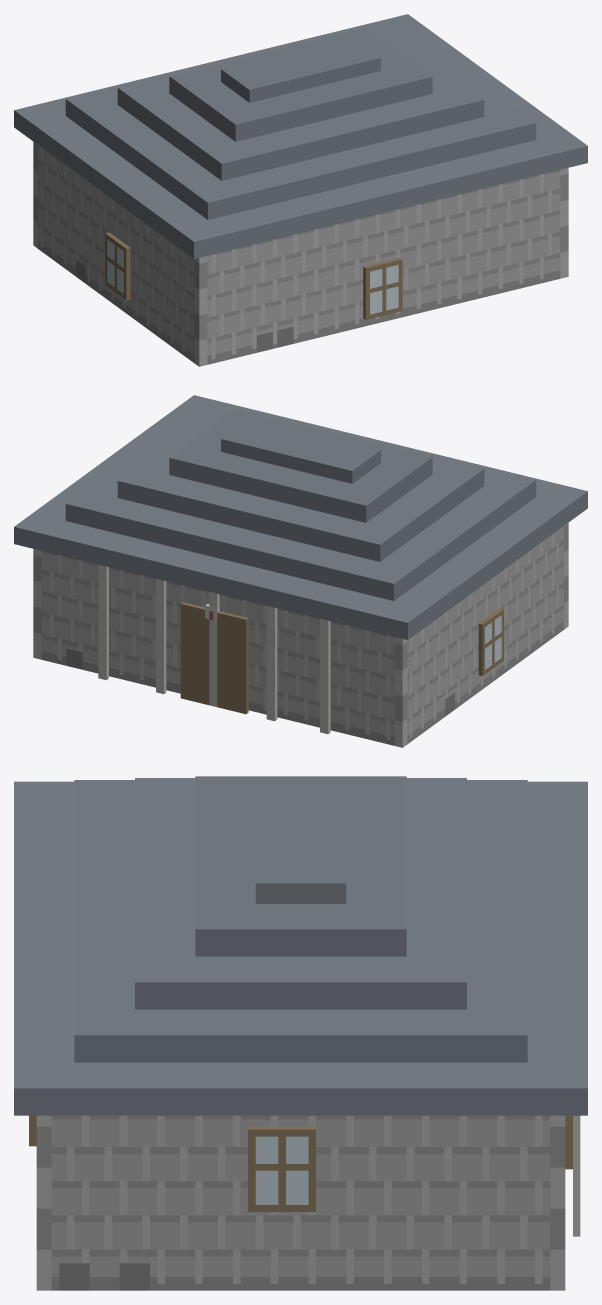
File: capitania_puerto_04.glb
The picture shows the model from 3 angles, top to bottom: view 1: azimuth 30°, elevation 25°; view 2: azimuth 150°, elevation 25°; view 3: azimuth 270°, elevation 25°; orthographic projection. The views are drawn at different scales.
Visible parts, largest first — view 1: capitania_puerto_04; view 2: capitania_puerto_04; view 3: capitania_puerto_04.
Part boxes in pixels (x1,y1,x2,y2): capitania_puerto_04: (14,14,587,366); capitania_puerto_04: (14,395,587,747); capitania_puerto_04: (14,776,587,1290).
Bounding box in the file's own units: 9.6 × 4.6 × 7.6.
